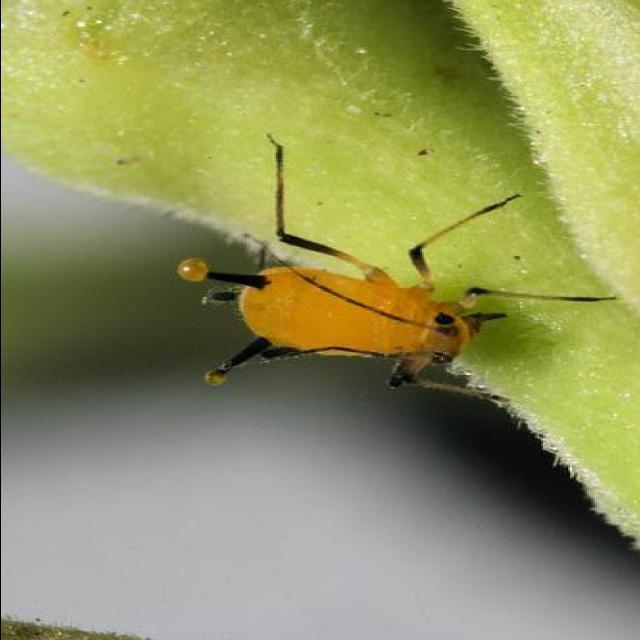aphid: (171, 137, 573, 424)
